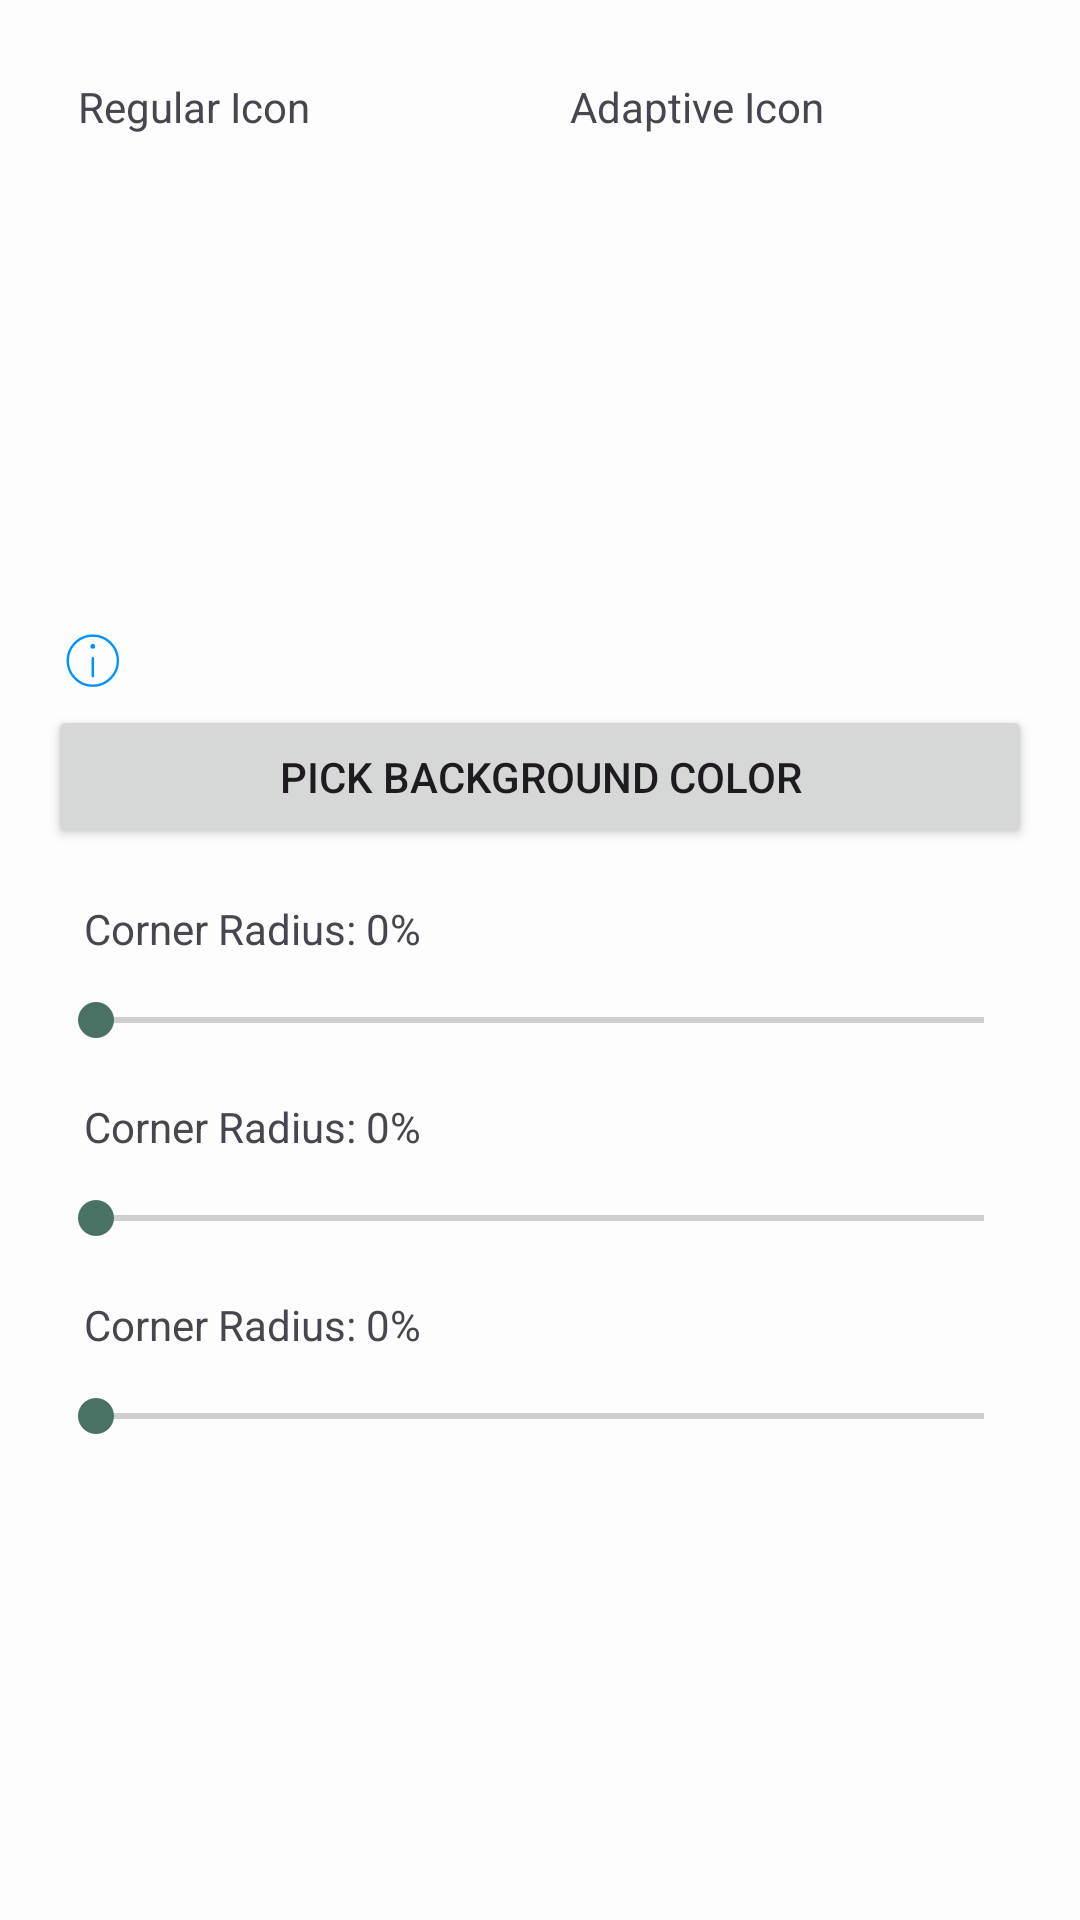

Icons on this 1080w x 1920h Android screen, each with its box as [x1, y1, x2, y2]:
about: [66, 634, 119, 687]
